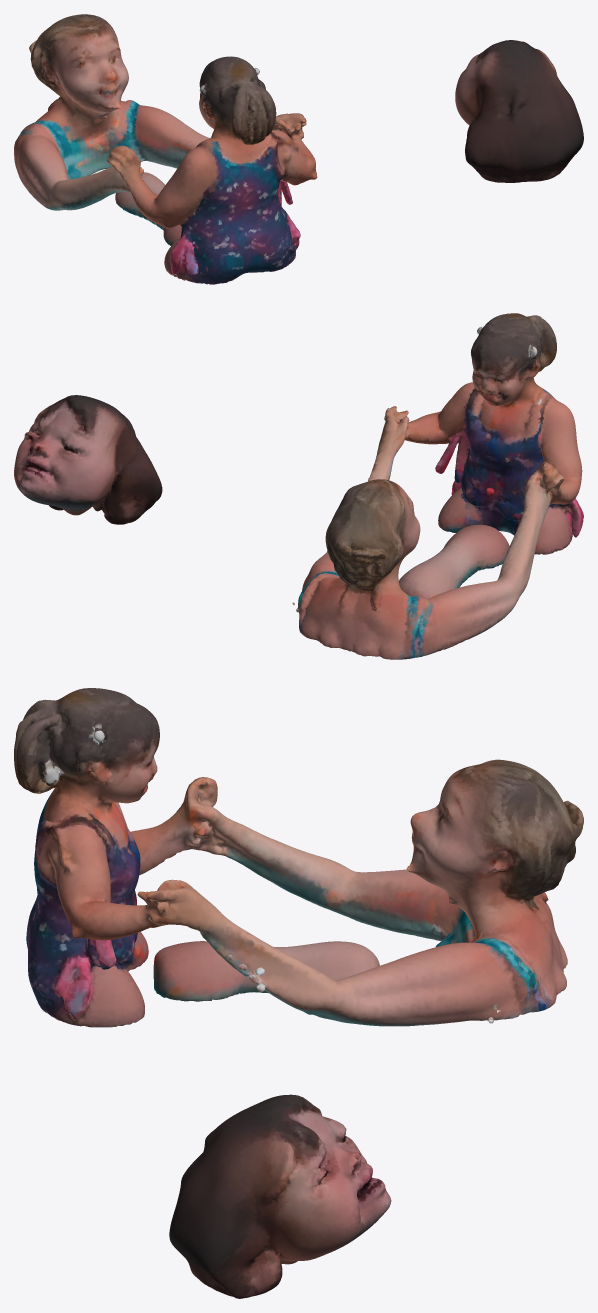
File: meme2 swimming up.fbx
The picture shows the model from 3 angles, top to bottom: view 1: azimuth 30°, elevation 25°; view 2: azimuth 150°, elevation 25°; view 3: azimuth 270°, elevation 25°; orthographic projection. The views are drawn at different scales.
Parts seen in each view (by area): view 1: tripo_node_91a66e53-fda8-4269-b626-ec8eafc62b7c; view 2: tripo_node_91a66e53-fda8-4269-b626-ec8eafc62b7c; view 3: tripo_node_91a66e53-fda8-4269-b626-ec8eafc62b7c.
Part boxes in pixels (x1=…): tripo_node_91a66e53-fda8-4269-b626-ec8eafc62b7c: x1=14, y1=14, x2=583, y2=284; tripo_node_91a66e53-fda8-4269-b626-ec8eafc62b7c: x1=14, y1=313, x2=583, y2=659; tripo_node_91a66e53-fda8-4269-b626-ec8eafc62b7c: x1=14, y1=688, x2=583, y2=1298.
Size of the model in its own units: 99.99 by 45.05 by 69.81.
Materials: 1 (1 with a texture image).
